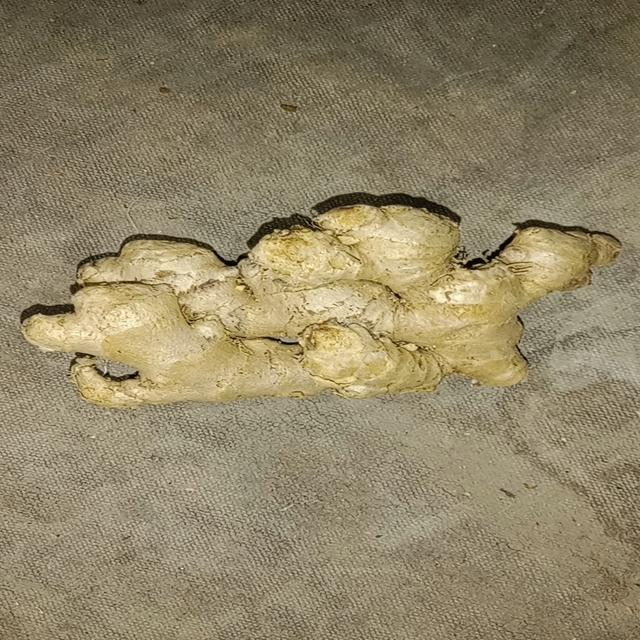ginger: (34, 205, 604, 410)
